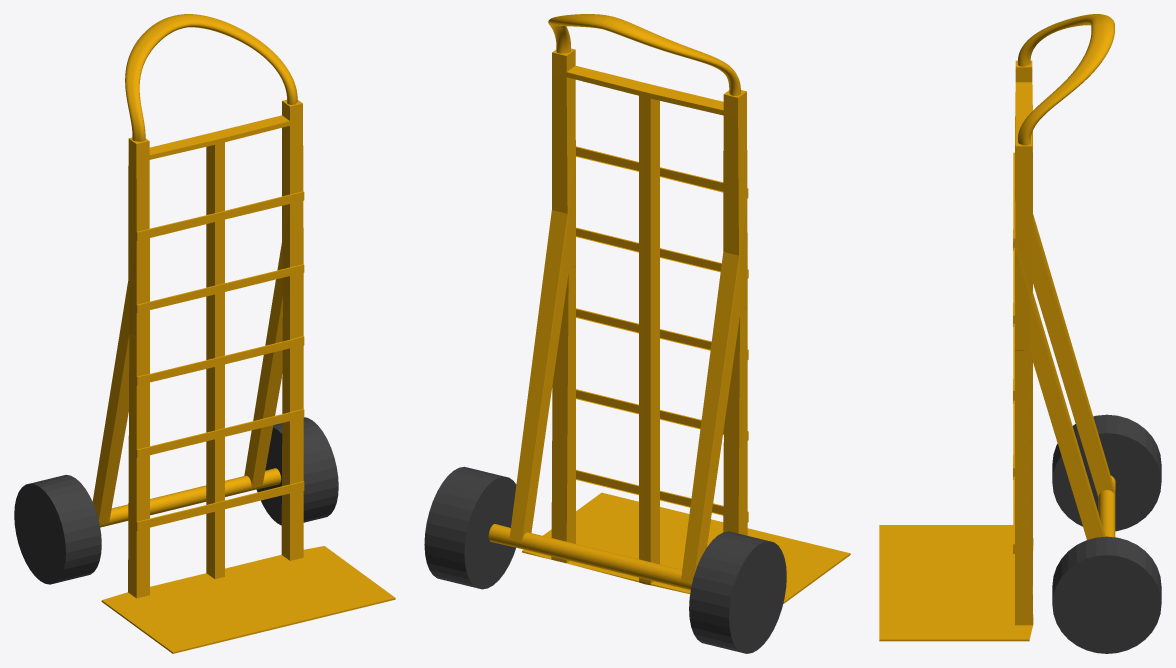
The model's file is SackTrolley.fbx.
3 renders of one model, left to right at view 1: azimuth 30°, elevation 25°; view 2: azimuth 150°, elevation 25°; view 3: azimuth 270°, elevation 25°, orthographic. The views are drawn at different scales.
Visible parts, largest first — view 1: SackTrolley; view 2: SackTrolley; view 3: SackTrolley.
Part boxes in pixels (x1,y1,x2,y2): SackTrolley: (14,14,395,653); SackTrolley: (424,14,850,653); SackTrolley: (879,14,1161,653).
Bounding box in the file's own units: 58.65 × 49.79 × 109.
